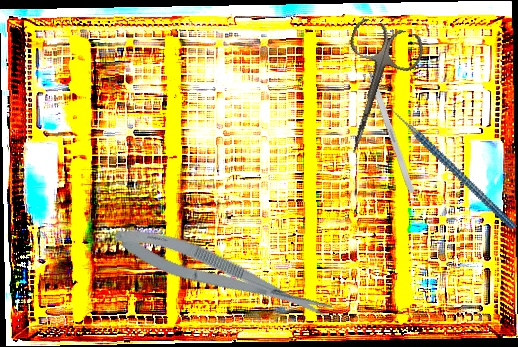Chopper: (373, 74, 518, 260)
Hook Surgical: (359, 48, 416, 195)
Iris Scissors: (317, 15, 428, 165)
Micro Scissor: (109, 215, 336, 335)
